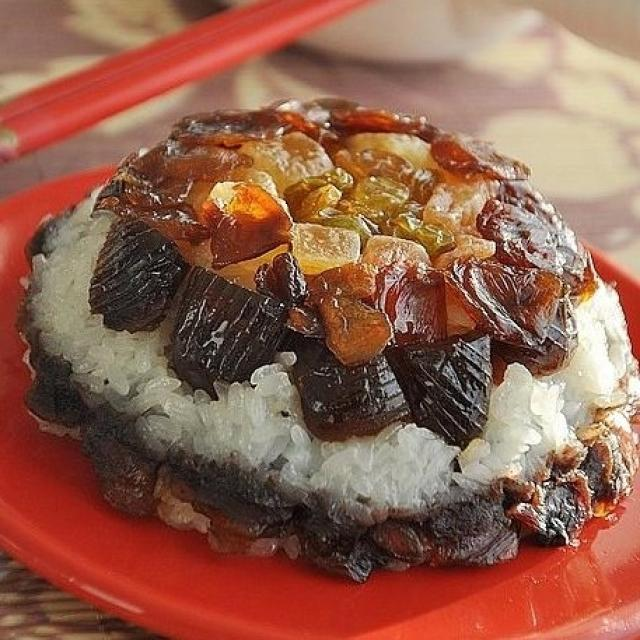米饭主食: (23, 57, 618, 624)
